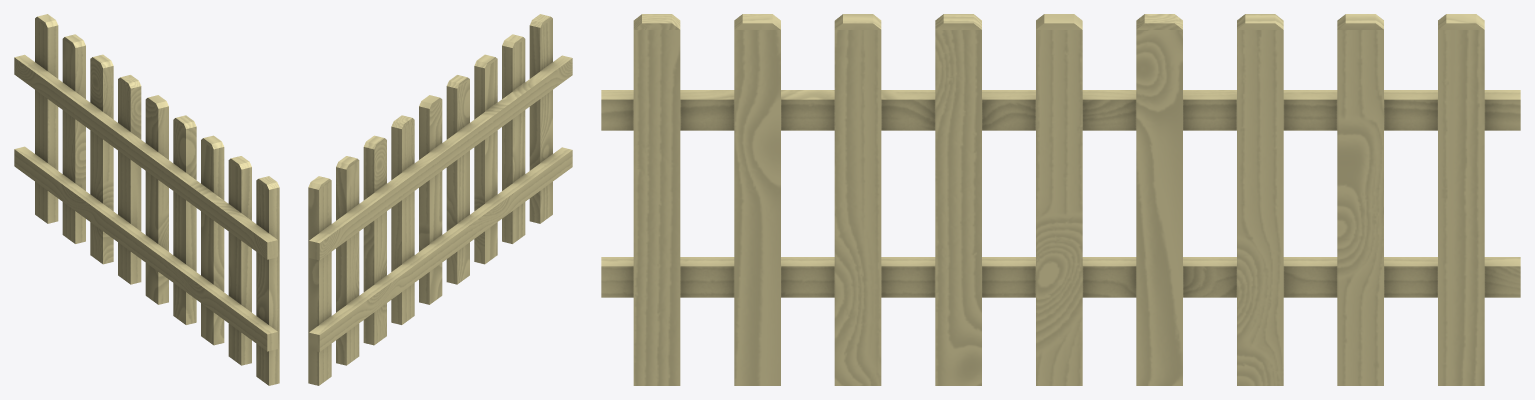
File: WoodFence.gltf
The picture shows the model from 3 angles, left to right: view 1: azimuth 30°, elevation 25°; view 2: azimuth 150°, elevation 25°; view 3: azimuth 270°, elevation 25°; orthographic projection. The views are drawn at different scales.
Parts seen in each view (by area): view 1: PicketFence; view 2: PicketFence; view 3: PicketFence.
Boxes of the visible parts, x1=… form: PicketFence: x1=14, y1=14, x2=279, y2=385; PicketFence: x1=308, y1=14, x2=572, y2=385; PicketFence: x1=601, y1=14, x2=1520, y2=385.
Bounding box in the file's own units: 0.9501 × 8.57 × 19.69.
1 material, 1 textured.
